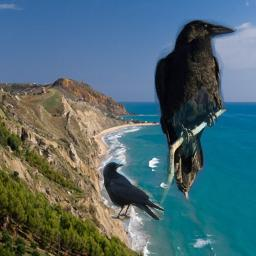Crow: (154, 19, 237, 204), (102, 159, 164, 223)
